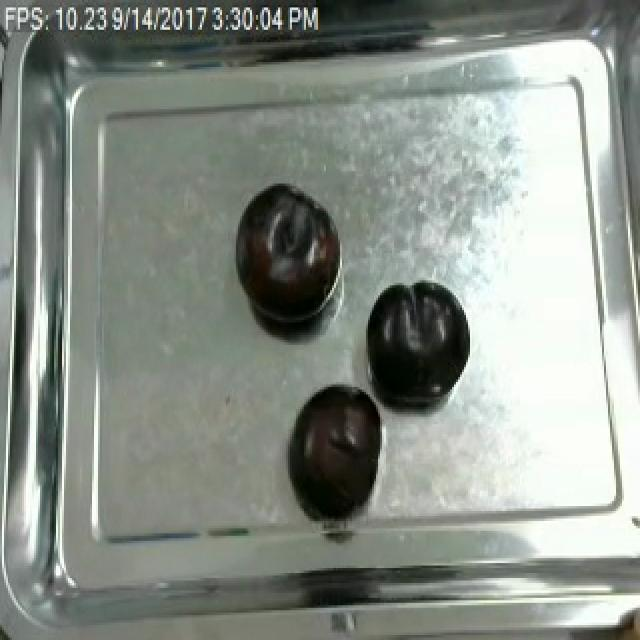Fruit: (230, 181, 336, 332), (362, 273, 472, 412), (286, 382, 384, 516)
